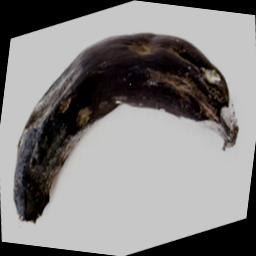Banana Rotten: (0, 7, 256, 256)
